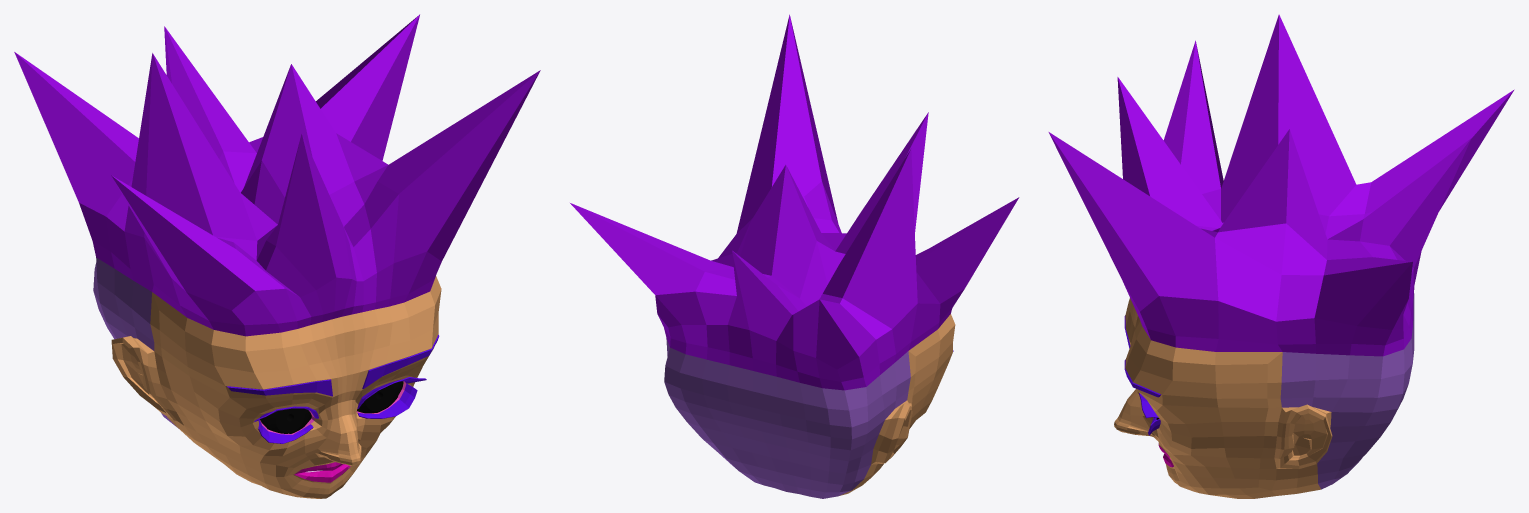
The model's file is DemonZap.fbx.
3 views of the same model, side by side, from view 1: azimuth 30°, elevation 25°; view 2: azimuth 150°, elevation 25°; view 3: azimuth 270°, elevation 25° (orthographic). The views are drawn at different scales.
Visible parts, largest first — view 1: ZapFace; view 2: ZapFace; view 3: ZapFace.
Boxes of the visible parts, <box> form: ZapFace: <box>14,14,540,498</box>; ZapFace: <box>570,14,1019,498</box>; ZapFace: <box>1048,14,1514,498</box>.
Size of the model in its own units: 0.4745 by 0.4823 by 0.476.
